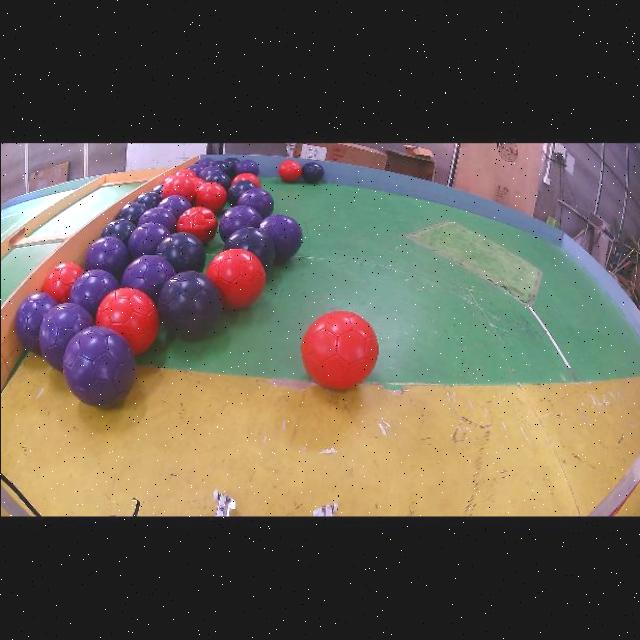B: (158, 270, 222, 337), (223, 226, 275, 267), (155, 231, 205, 271), (99, 218, 135, 243), (227, 178, 257, 205), (115, 201, 146, 224), (205, 170, 231, 189), (133, 191, 162, 208), (301, 161, 324, 182), (211, 158, 231, 173), (224, 156, 240, 168), (151, 182, 163, 193)
P: (62, 324, 135, 405), (38, 301, 93, 369), (120, 253, 175, 302), (14, 291, 57, 352), (68, 267, 119, 317), (258, 213, 302, 259), (84, 235, 129, 278), (127, 221, 170, 258), (218, 204, 262, 240), (237, 185, 274, 217), (137, 206, 176, 232), (157, 193, 190, 218), (233, 158, 259, 174), (197, 163, 220, 178), (188, 162, 203, 173), (197, 156, 212, 166)
R: (301, 310, 379, 388), (96, 287, 158, 353), (205, 246, 264, 306), (42, 261, 83, 302), (176, 205, 216, 243), (194, 180, 227, 211), (161, 174, 196, 200), (277, 158, 301, 180), (232, 171, 261, 185), (175, 166, 197, 176), (190, 175, 205, 188), (162, 174, 174, 183), (185, 174, 189, 176), (164, 178, 170, 178), (164, 178, 164, 180)
